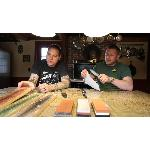Pisau: (56, 84, 96, 106), (80, 66, 110, 84)
